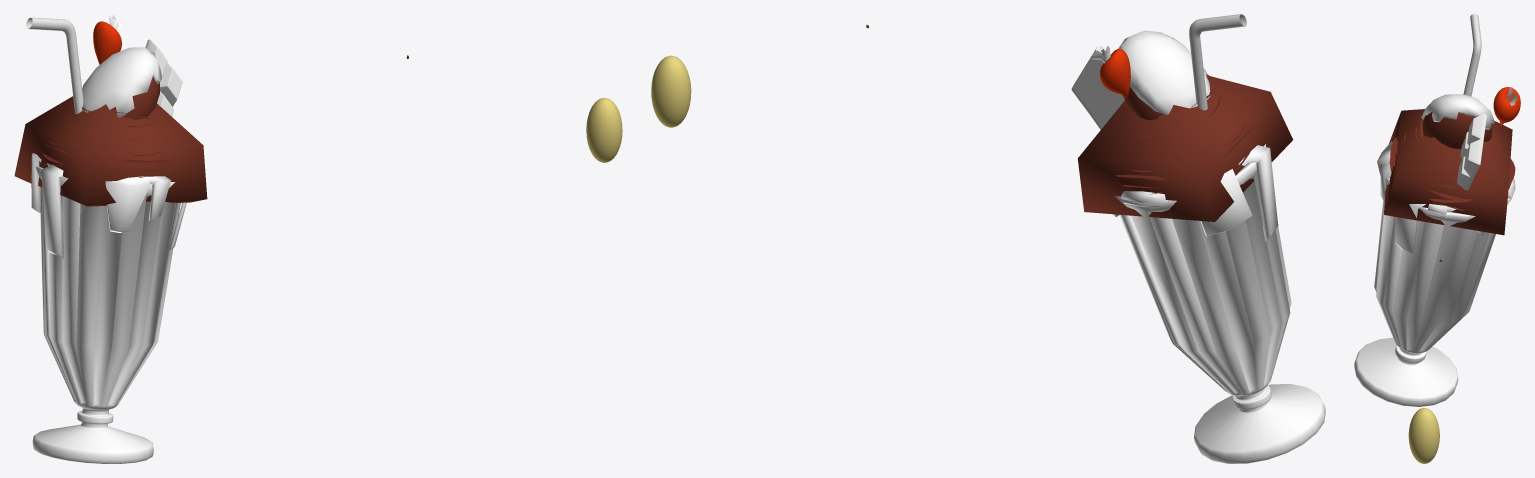
Rendered from Milkshake.glb.
3 views of the same model, side by side, from view 1: azimuth 30°, elevation 25°; view 2: azimuth 150°, elevation 25°; view 3: azimuth 270°, elevation 25° (orthographic). The views are drawn at different scales.
Visible parts, largest first — view 1: Cylinder.001, Cube.001, Cylinder.002, Cube.007, Sphere, Plane.003, Plane.007, Sphere.001, Cube.005; view 2: Cylinder.001, Cube.001, Cube.007, Cylinder.002, Sphere, Plane.007, Plane.003, Sphere.001; view 3: Cylinder.001, Cube.001, Cylinder.002, Sphere, Cube.007, Plane.007, Cube.005, Plane.003, Sphere.001, Circle.002.
Boxes of the visible parts, x1=… form: Cylinder.001: x1=32, y1=166, x2=180, y2=463; Cube.001: x1=14, y1=96, x2=207, y2=206; Cylinder.002: x1=31, y1=153, x2=186, y2=258; Cube.007: x1=82, y1=47, x2=161, y2=117; Sphere: x1=586, y1=98, x2=622, y2=162; Plane.003: x1=26, y1=17, x2=83, y2=114; Plane.007: x1=145, y1=39, x2=182, y2=116; Sphere.001: x1=93, y1=21, x2=121, y2=64; Cube.005: x1=112, y1=76, x2=159, y2=119; Cylinder.001: x1=1114, y1=144, x2=1325, y2=463; Cube.001: x1=1077, y1=75, x2=1293, y2=221; Cube.007: x1=1118, y1=30, x2=1210, y2=114; Cylinder.002: x1=1113, y1=145, x2=1278, y2=241; Sphere: x1=651, y1=55, x2=691, y2=127; Plane.007: x1=1071, y1=46, x2=1124, y2=129; Plane.003: x1=1189, y1=14, x2=1246, y2=110; Sphere.001: x1=1100, y1=49, x2=1130, y2=98; Cylinder.001: x1=1354, y1=178, x2=1515, y2=406; Cube.001: x1=1384, y1=109, x2=1512, y2=235; Cylinder.002: x1=1377, y1=141, x2=1515, y2=253; Sphere: x1=1408, y1=408, x2=1439, y2=463; Cube.007: x1=1421, y1=94, x2=1494, y2=129; Plane.007: x1=1457, y1=114, x2=1486, y2=190; Cube.005: x1=1422, y1=111, x2=1492, y2=148; Plane.003: x1=1463, y1=14, x2=1481, y2=96; Sphere.001: x1=1493, y1=87, x2=1520, y2=125; Circle.002: x1=1390, y1=137, x2=1515, y2=200.
Bounding box in the file's own units: 2.46 × 1.69 × 0.698.
